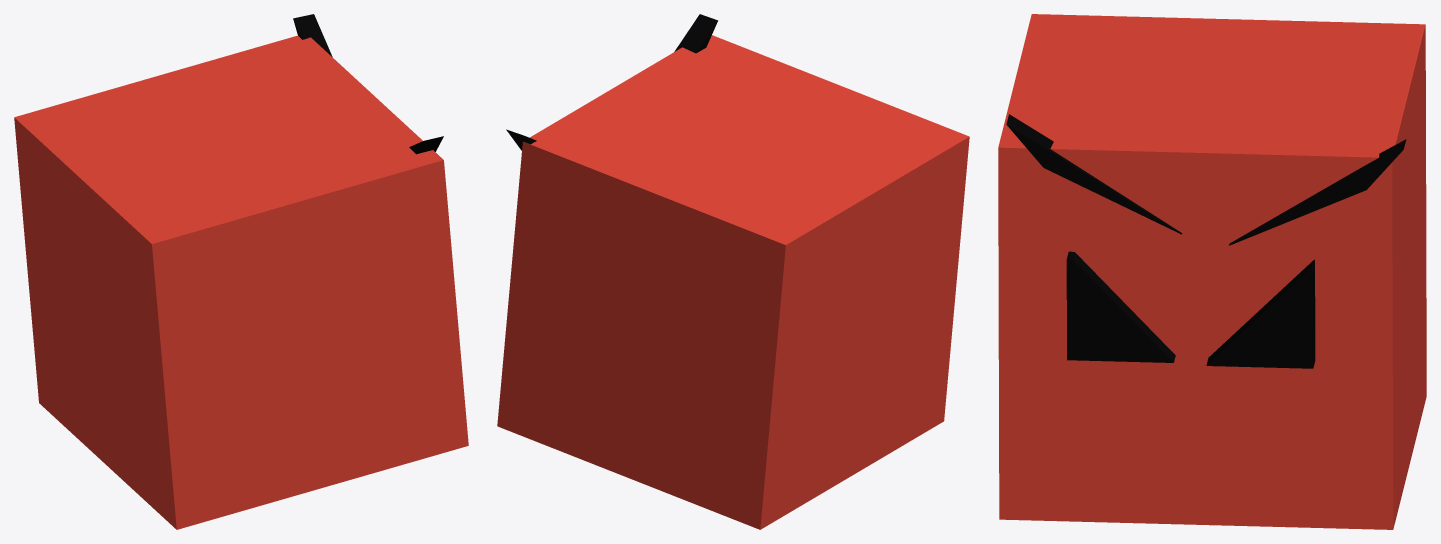
File: enemy.fbx
3 renders of one model, left to right at view 1: azimuth 30°, elevation 25°; view 2: azimuth 150°, elevation 25°; view 3: azimuth 270°, elevation 25°, orthographic. The views are drawn at different scales.
Visible parts, largest first — view 1: Cube; view 2: Cube; view 3: Cube.
Boxes of the visible parts, x1=… form: Cube: x1=14, y1=14, x2=468, y2=529; Cube: x1=497, y1=14, x2=969, y2=529; Cube: x1=998, y1=14, x2=1426, y2=529.
Size of the model in its own units: 234 by 231 by 217.
